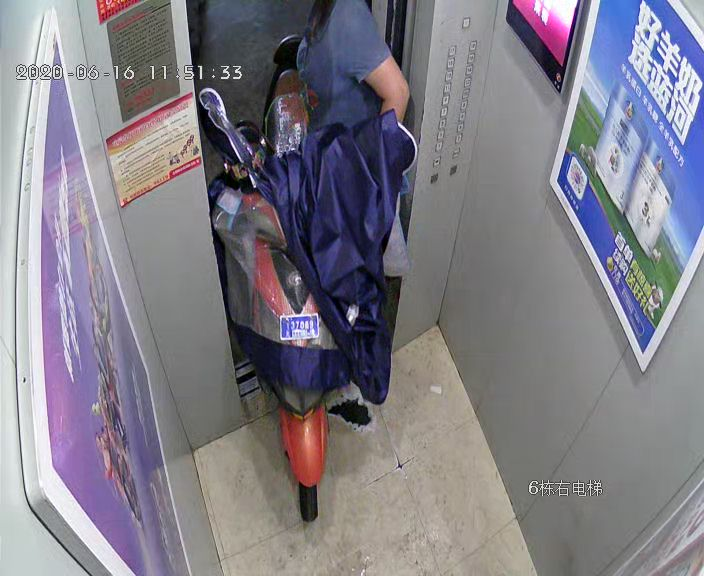Electric-bicycle: (199, 32, 417, 514)
